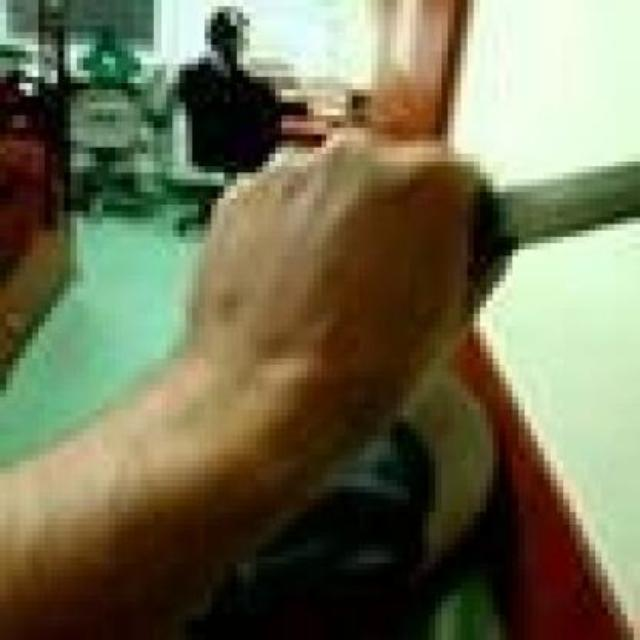Knife: (472, 162, 632, 272)
